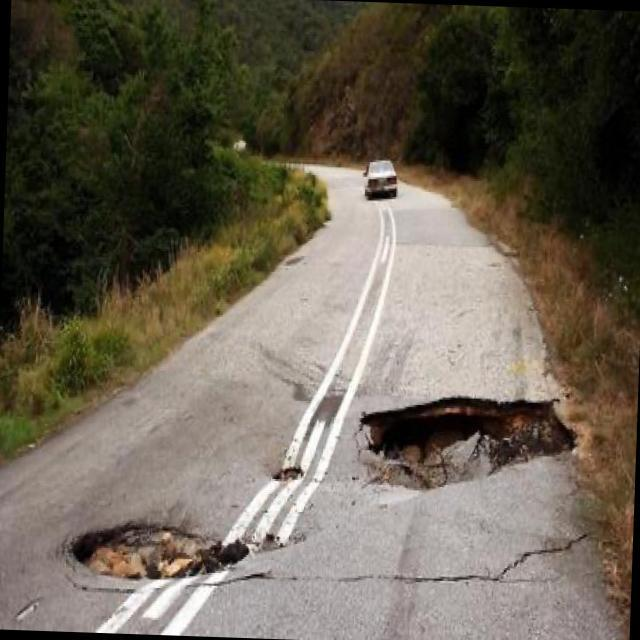Pothole: (366, 397, 574, 488), (72, 522, 248, 577)
